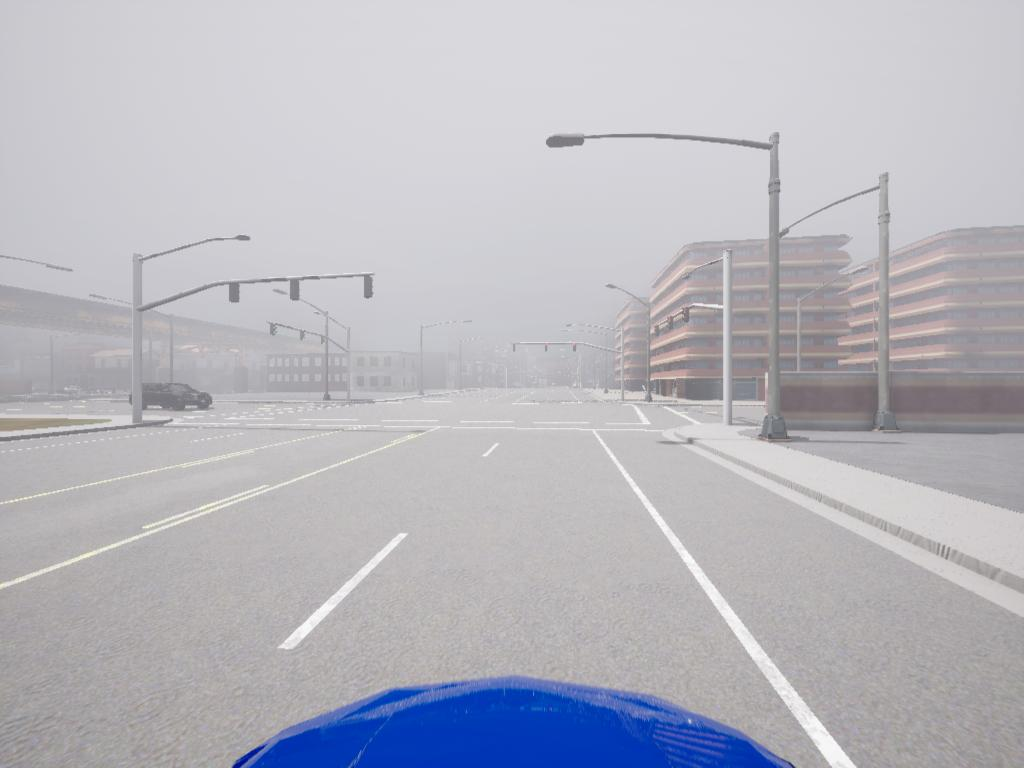traffic_light: (229, 286, 242, 305), (291, 280, 301, 304), (366, 278, 375, 301), (683, 309, 692, 325), (270, 322, 278, 339), (654, 325, 662, 341), (668, 316, 674, 333), (301, 331, 307, 344), (321, 337, 326, 349), (573, 343, 578, 354), (513, 345, 517, 354), (545, 343, 549, 352)
